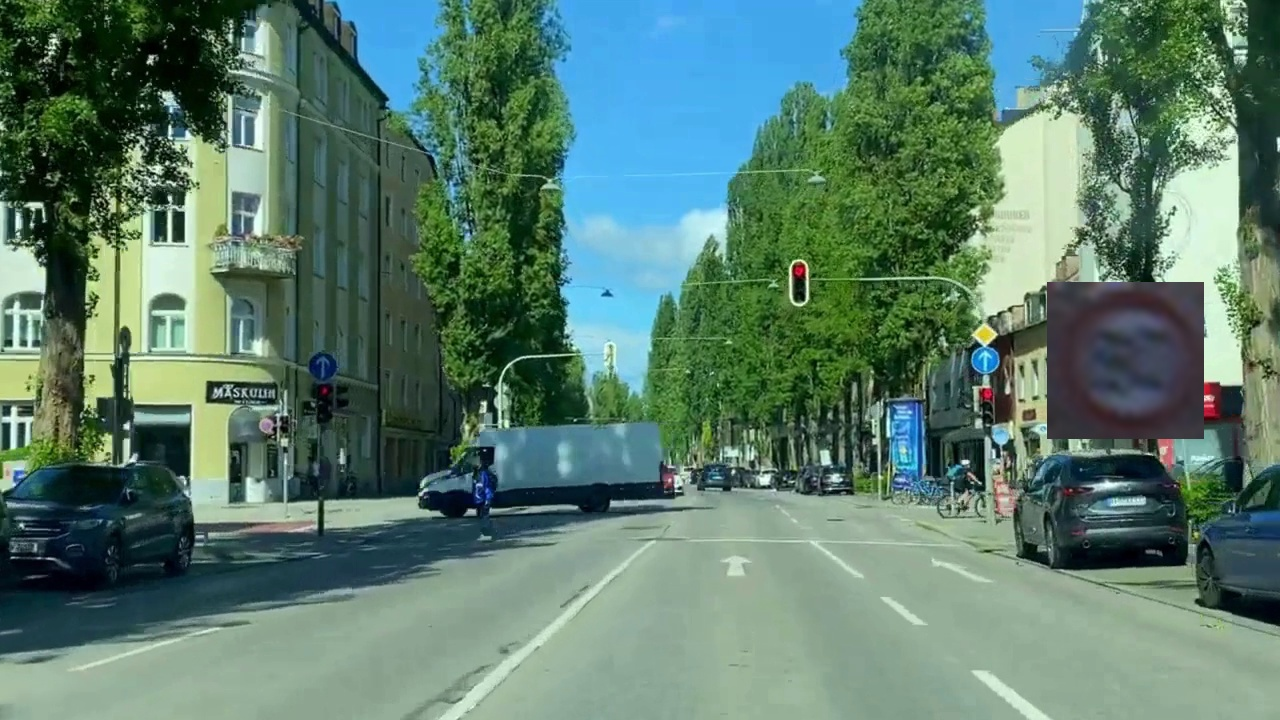Speed 80: (1047, 282, 1204, 439)
